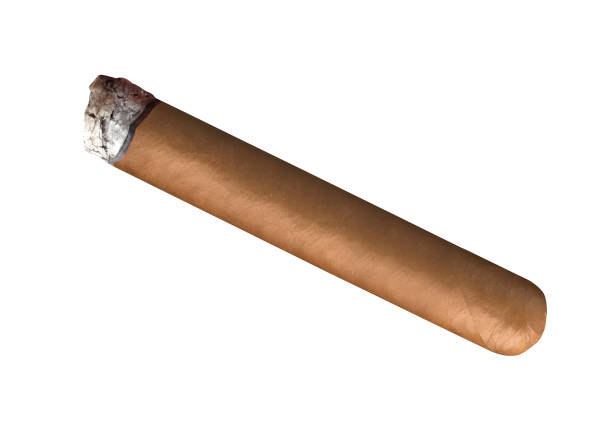cigarette: (80, 72, 548, 354)
